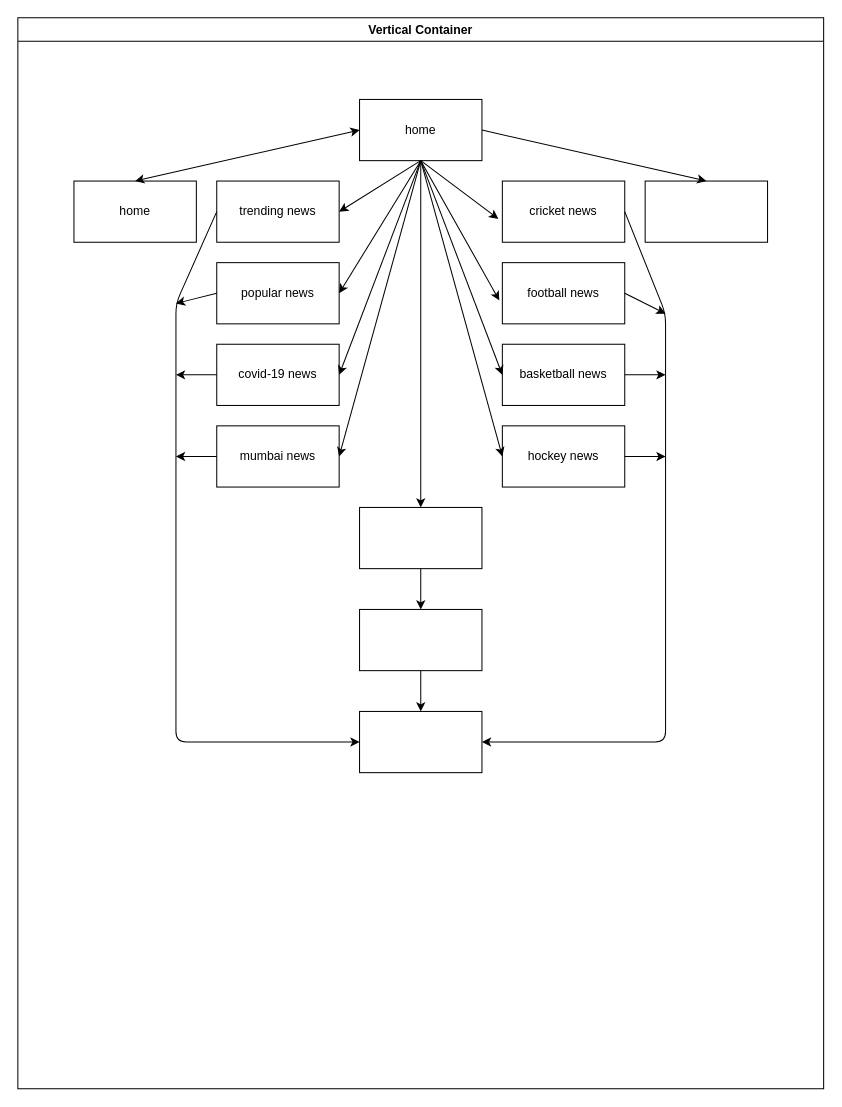
Some shapes in this 842 by 1107 pixel diagram are drawn without their labels. The shapes that lost their labels are listed below. From the top down, each one's centre as x and y in pixels, then its label:
At point 706,211: "about".
At point 420,537: "search".
At point 420,639: "search result page".
At point 420,741: "article page".
